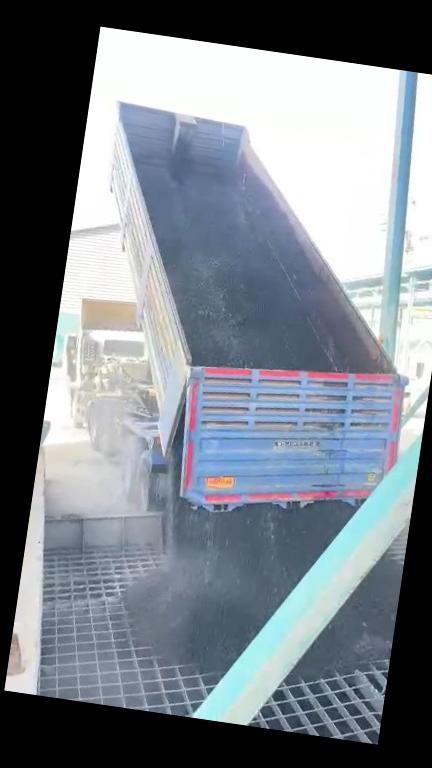gravel: (138, 164, 332, 370), (129, 503, 354, 670), (296, 556, 402, 679)
